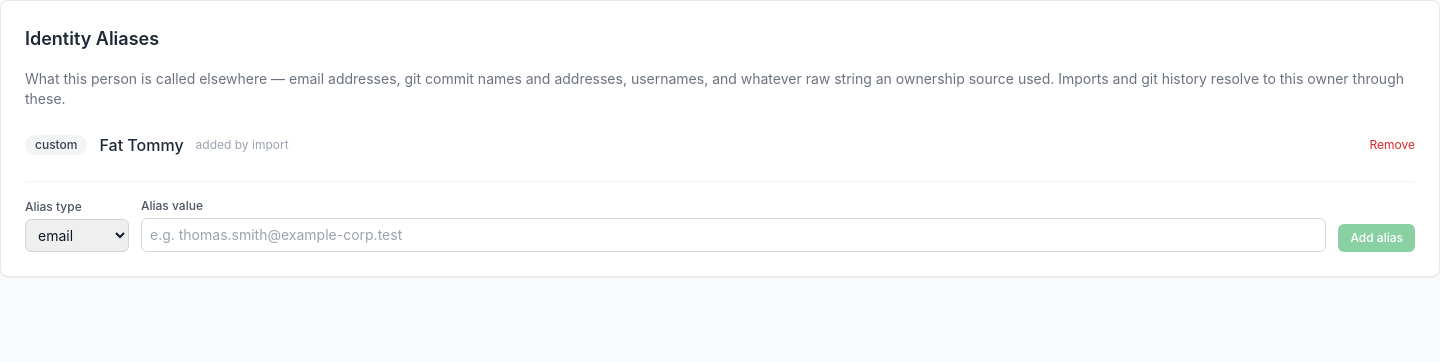
Test case: OwnerAliasesCard › says an alias is already taken rather than failing silently
Expected: the text "Fat Tommy" is shown, [100,133,184,157]
Type "taken@example-corp.test" into the field labelled "Alias value" at (734, 235), box [141,218,1326,252]
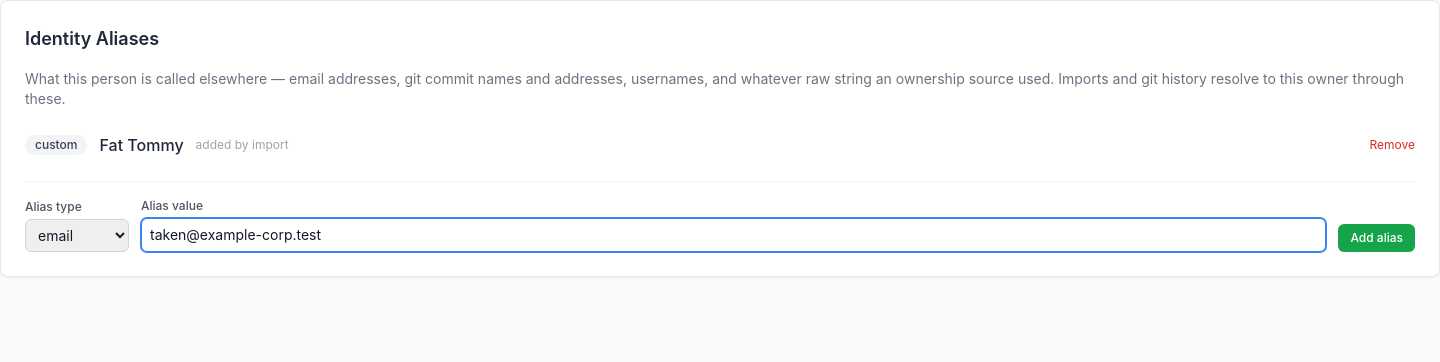
Click the button "Add alias" at (1377, 238), box [1338,224,1415,252]
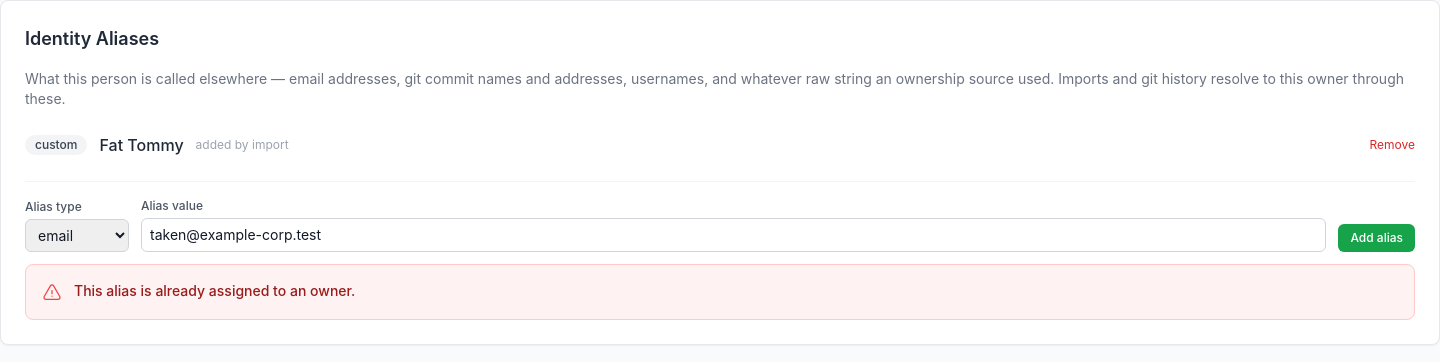
Expected: the text "This alias is already assigned to an owner." is shown, [74,282,355,299]
